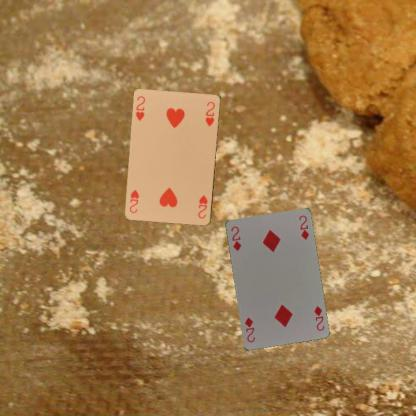2d: (311, 303, 325, 332), (228, 224, 242, 252)
2h: (195, 193, 209, 220), (134, 94, 146, 122)
